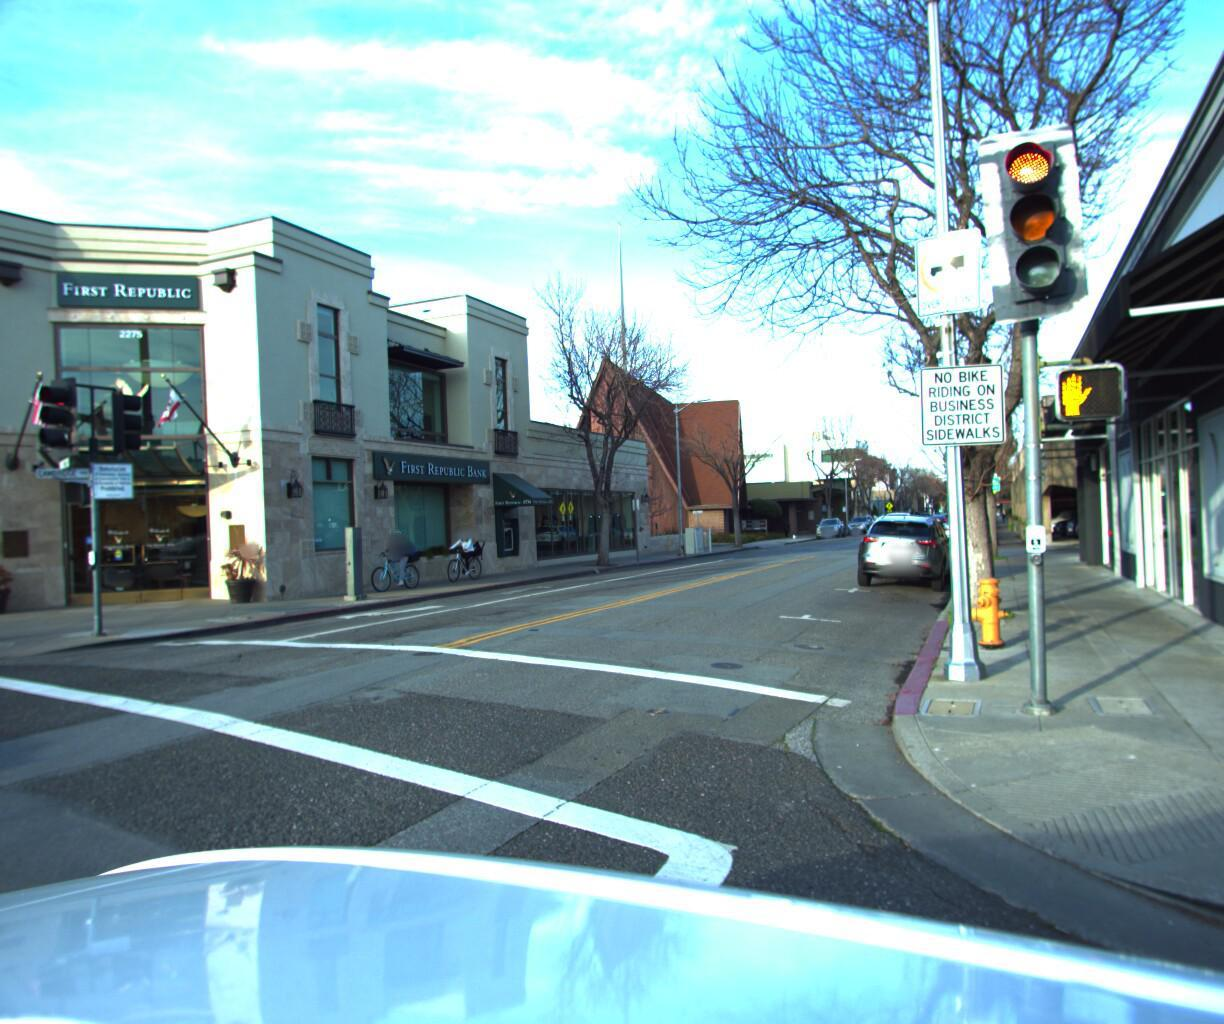bicycle: (357, 519, 432, 589), (428, 514, 492, 576)
car: (843, 501, 955, 584), (1055, 492, 1164, 532), (1031, 497, 1119, 528), (810, 511, 848, 533), (844, 508, 878, 527), (921, 506, 947, 527)
